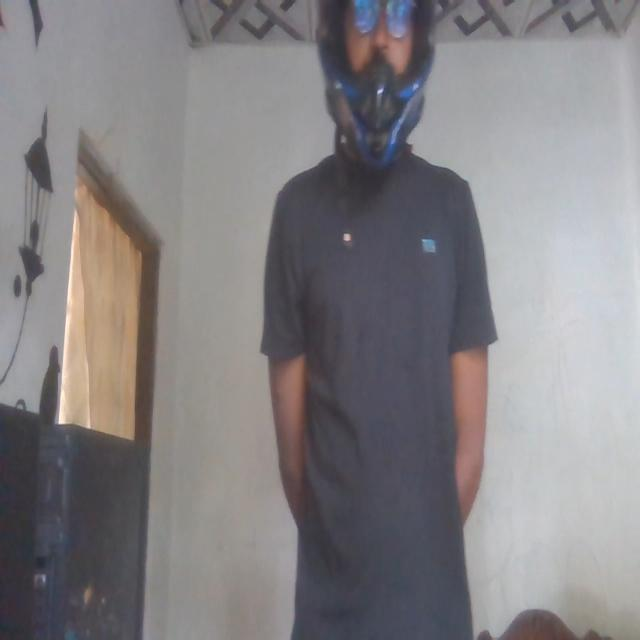Helmet_Wearer: (316, 0, 446, 175)
Person: (266, 0, 492, 640)
